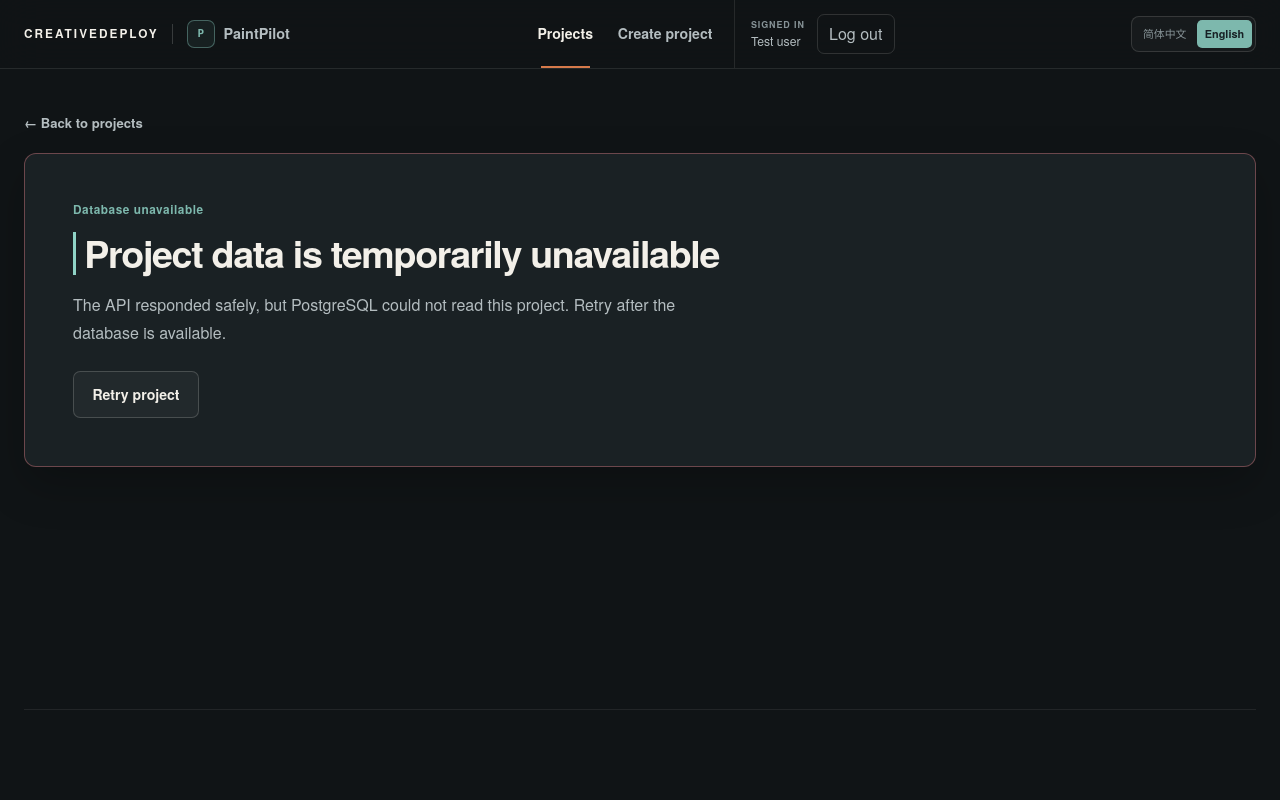
Test case: PaintProject detail › distinguishes a database 503 and retries only after activation
Expected: the number of headings is 1, [73,232,1207,275]
Click the button "Retry project" at x=136, y=395, box [73,371,199,418]
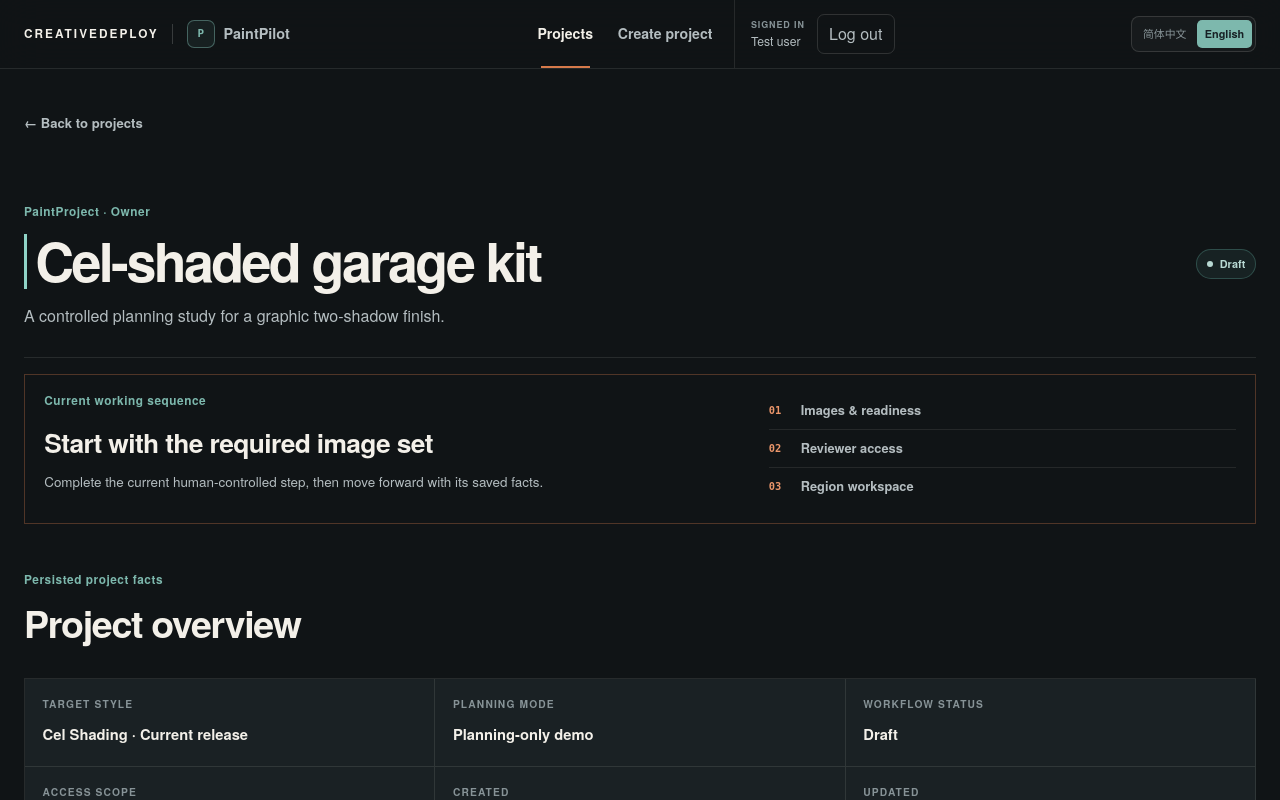
Expected: the heading "Cel-shaded garage kit" is shown, [24,234,541,289]
